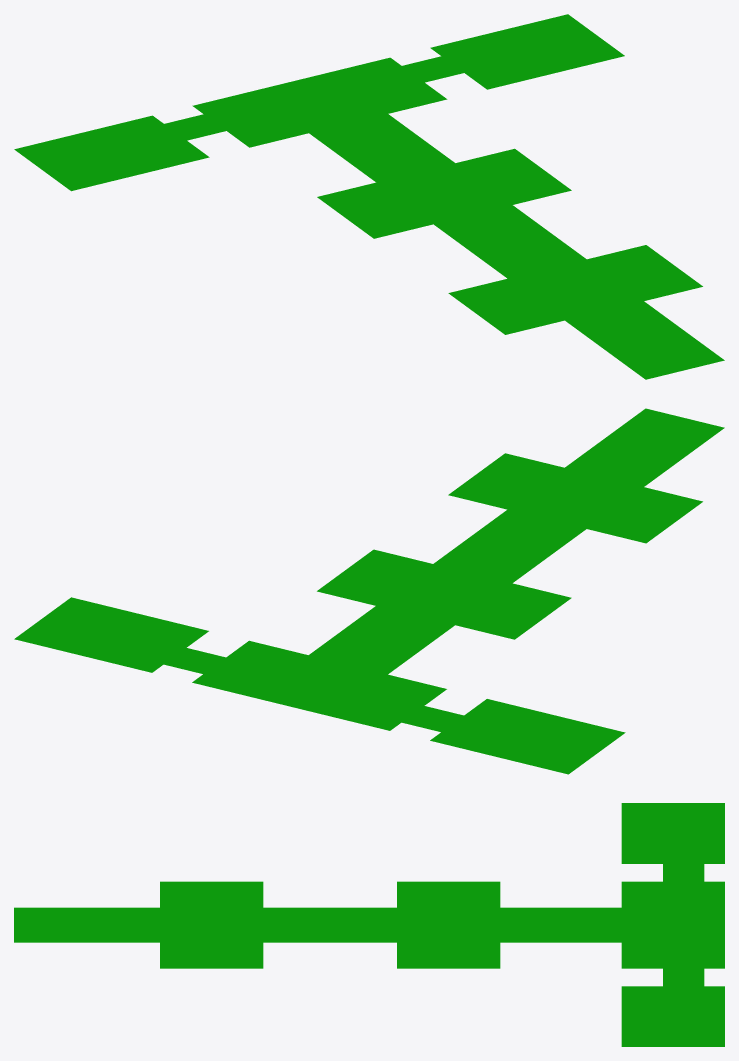
Rendered from LevelSubida.fbx.
The picture shows the model from 3 angles, top to bottom: view 1: azimuth 30°, elevation 25°; view 2: azimuth 150°, elevation 25°; view 3: azimuth 270°, elevation 25°; orthographic projection. The views are drawn at different scales.
Parts seen in each view (by area): view 1: SUBUDA_PARA_A_ABADIA; view 2: SUBUDA_PARA_A_ABADIA; view 3: SUBUDA_PARA_A_ABADIA.
Boxes of the visible parts, box(x1,y1,x2,y2) form: SUBUDA_PARA_A_ABADIA: box(14, 14, 724, 379); SUBUDA_PARA_A_ABADIA: box(14, 408, 724, 774); SUBUDA_PARA_A_ABADIA: box(14, 803, 724, 1046).
Size of the model in its own units: 7832 by 0 by 9646.
